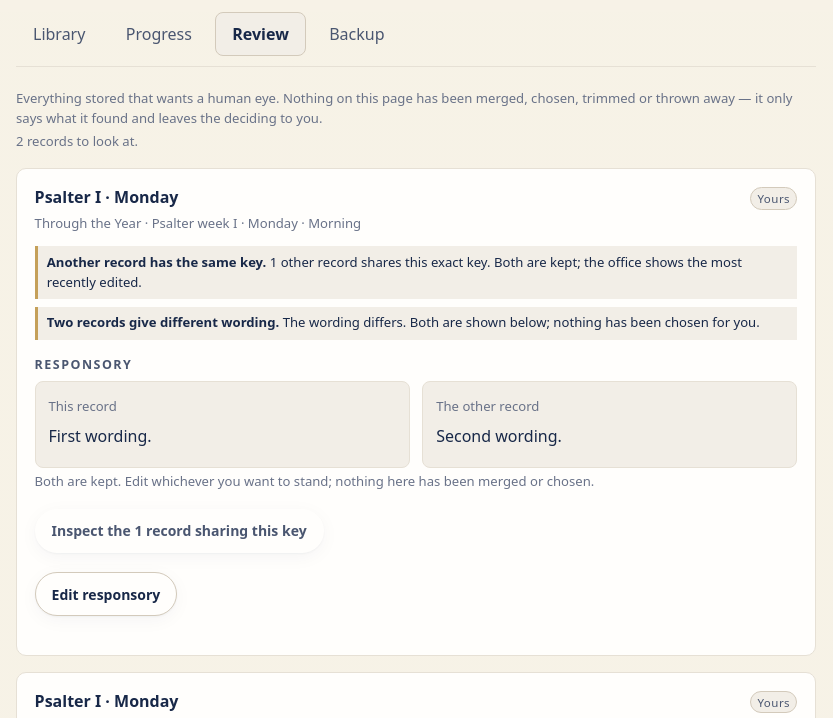
Test: 16 to 19: the Review screen › lets duplicates be inspected without changing them
Click the button "Inspect the 1 record sharing this key" at (179, 531), box [35,509,324,553]
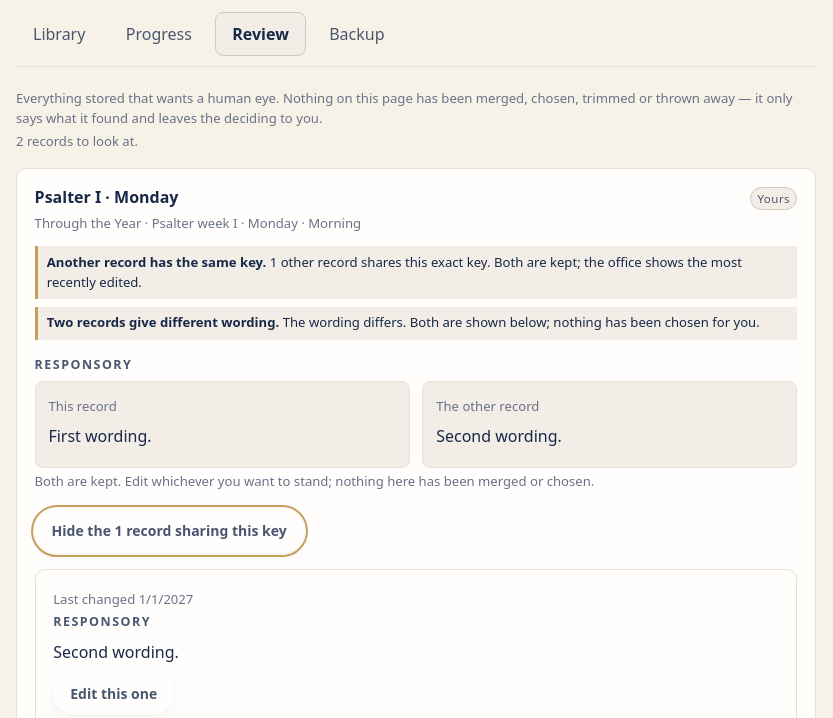
Now the button named "Inspect the 1 record" is expanded, box [35,509,304,553]
